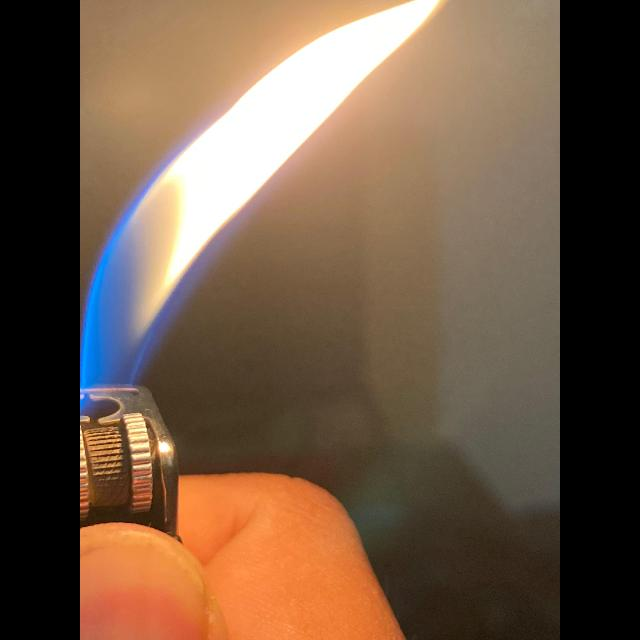fire: (80, 0, 441, 385)
